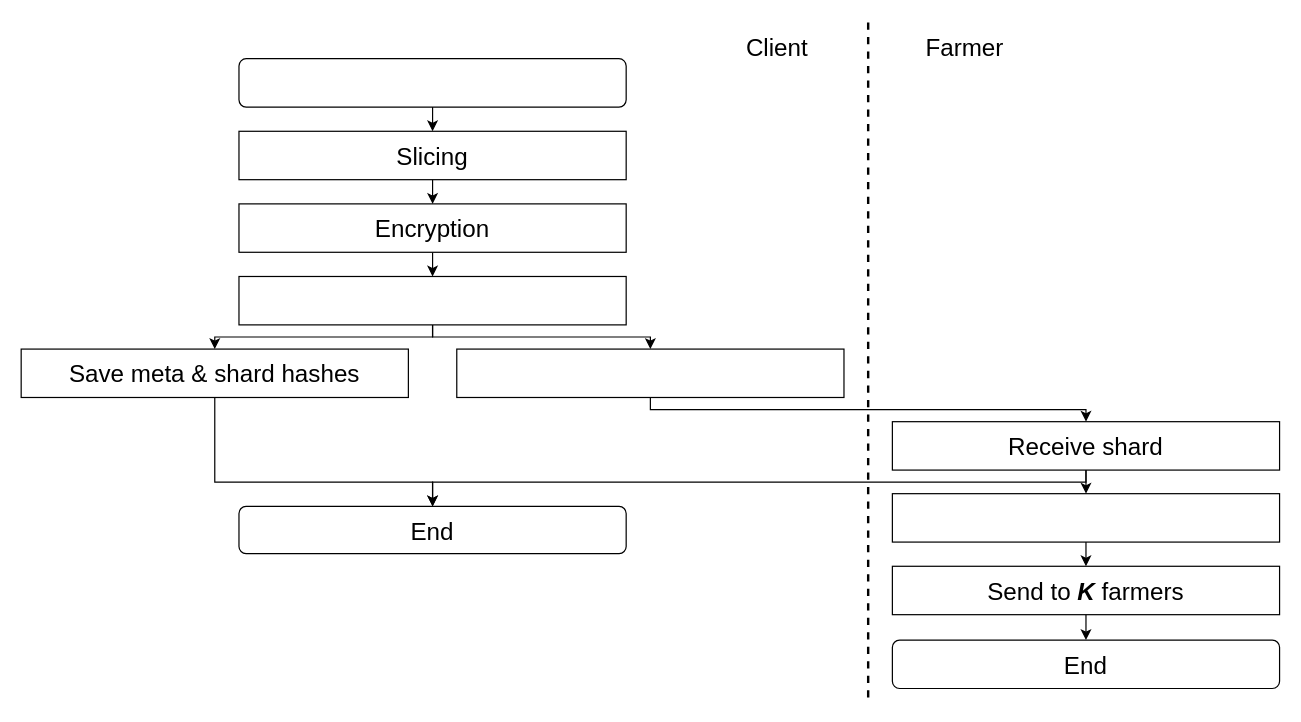
Some shapes in this 1301 by 722 pixel diagram are drawn without their labels. Each missing label, with the centre of its shape:
Compute shards with IDA: point 432,300
File upload request: point 432,82
LOOKUP: point 1085,517
Upload (p+q) shards in parallel: point 650,372
